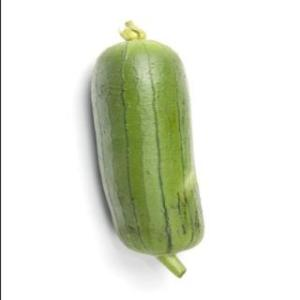zucchini: (81, 44, 216, 274)
